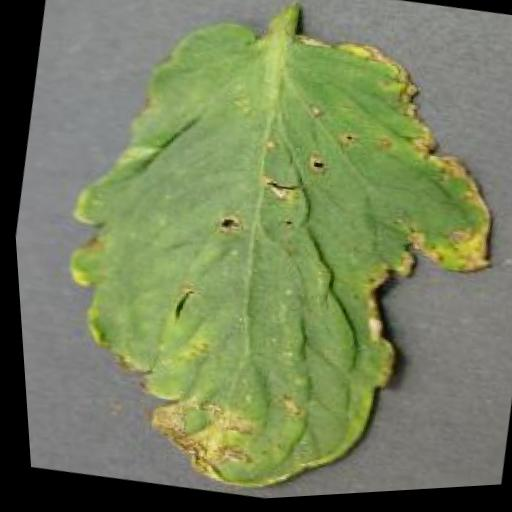Bacterial Spot: (1, 0, 512, 512)
